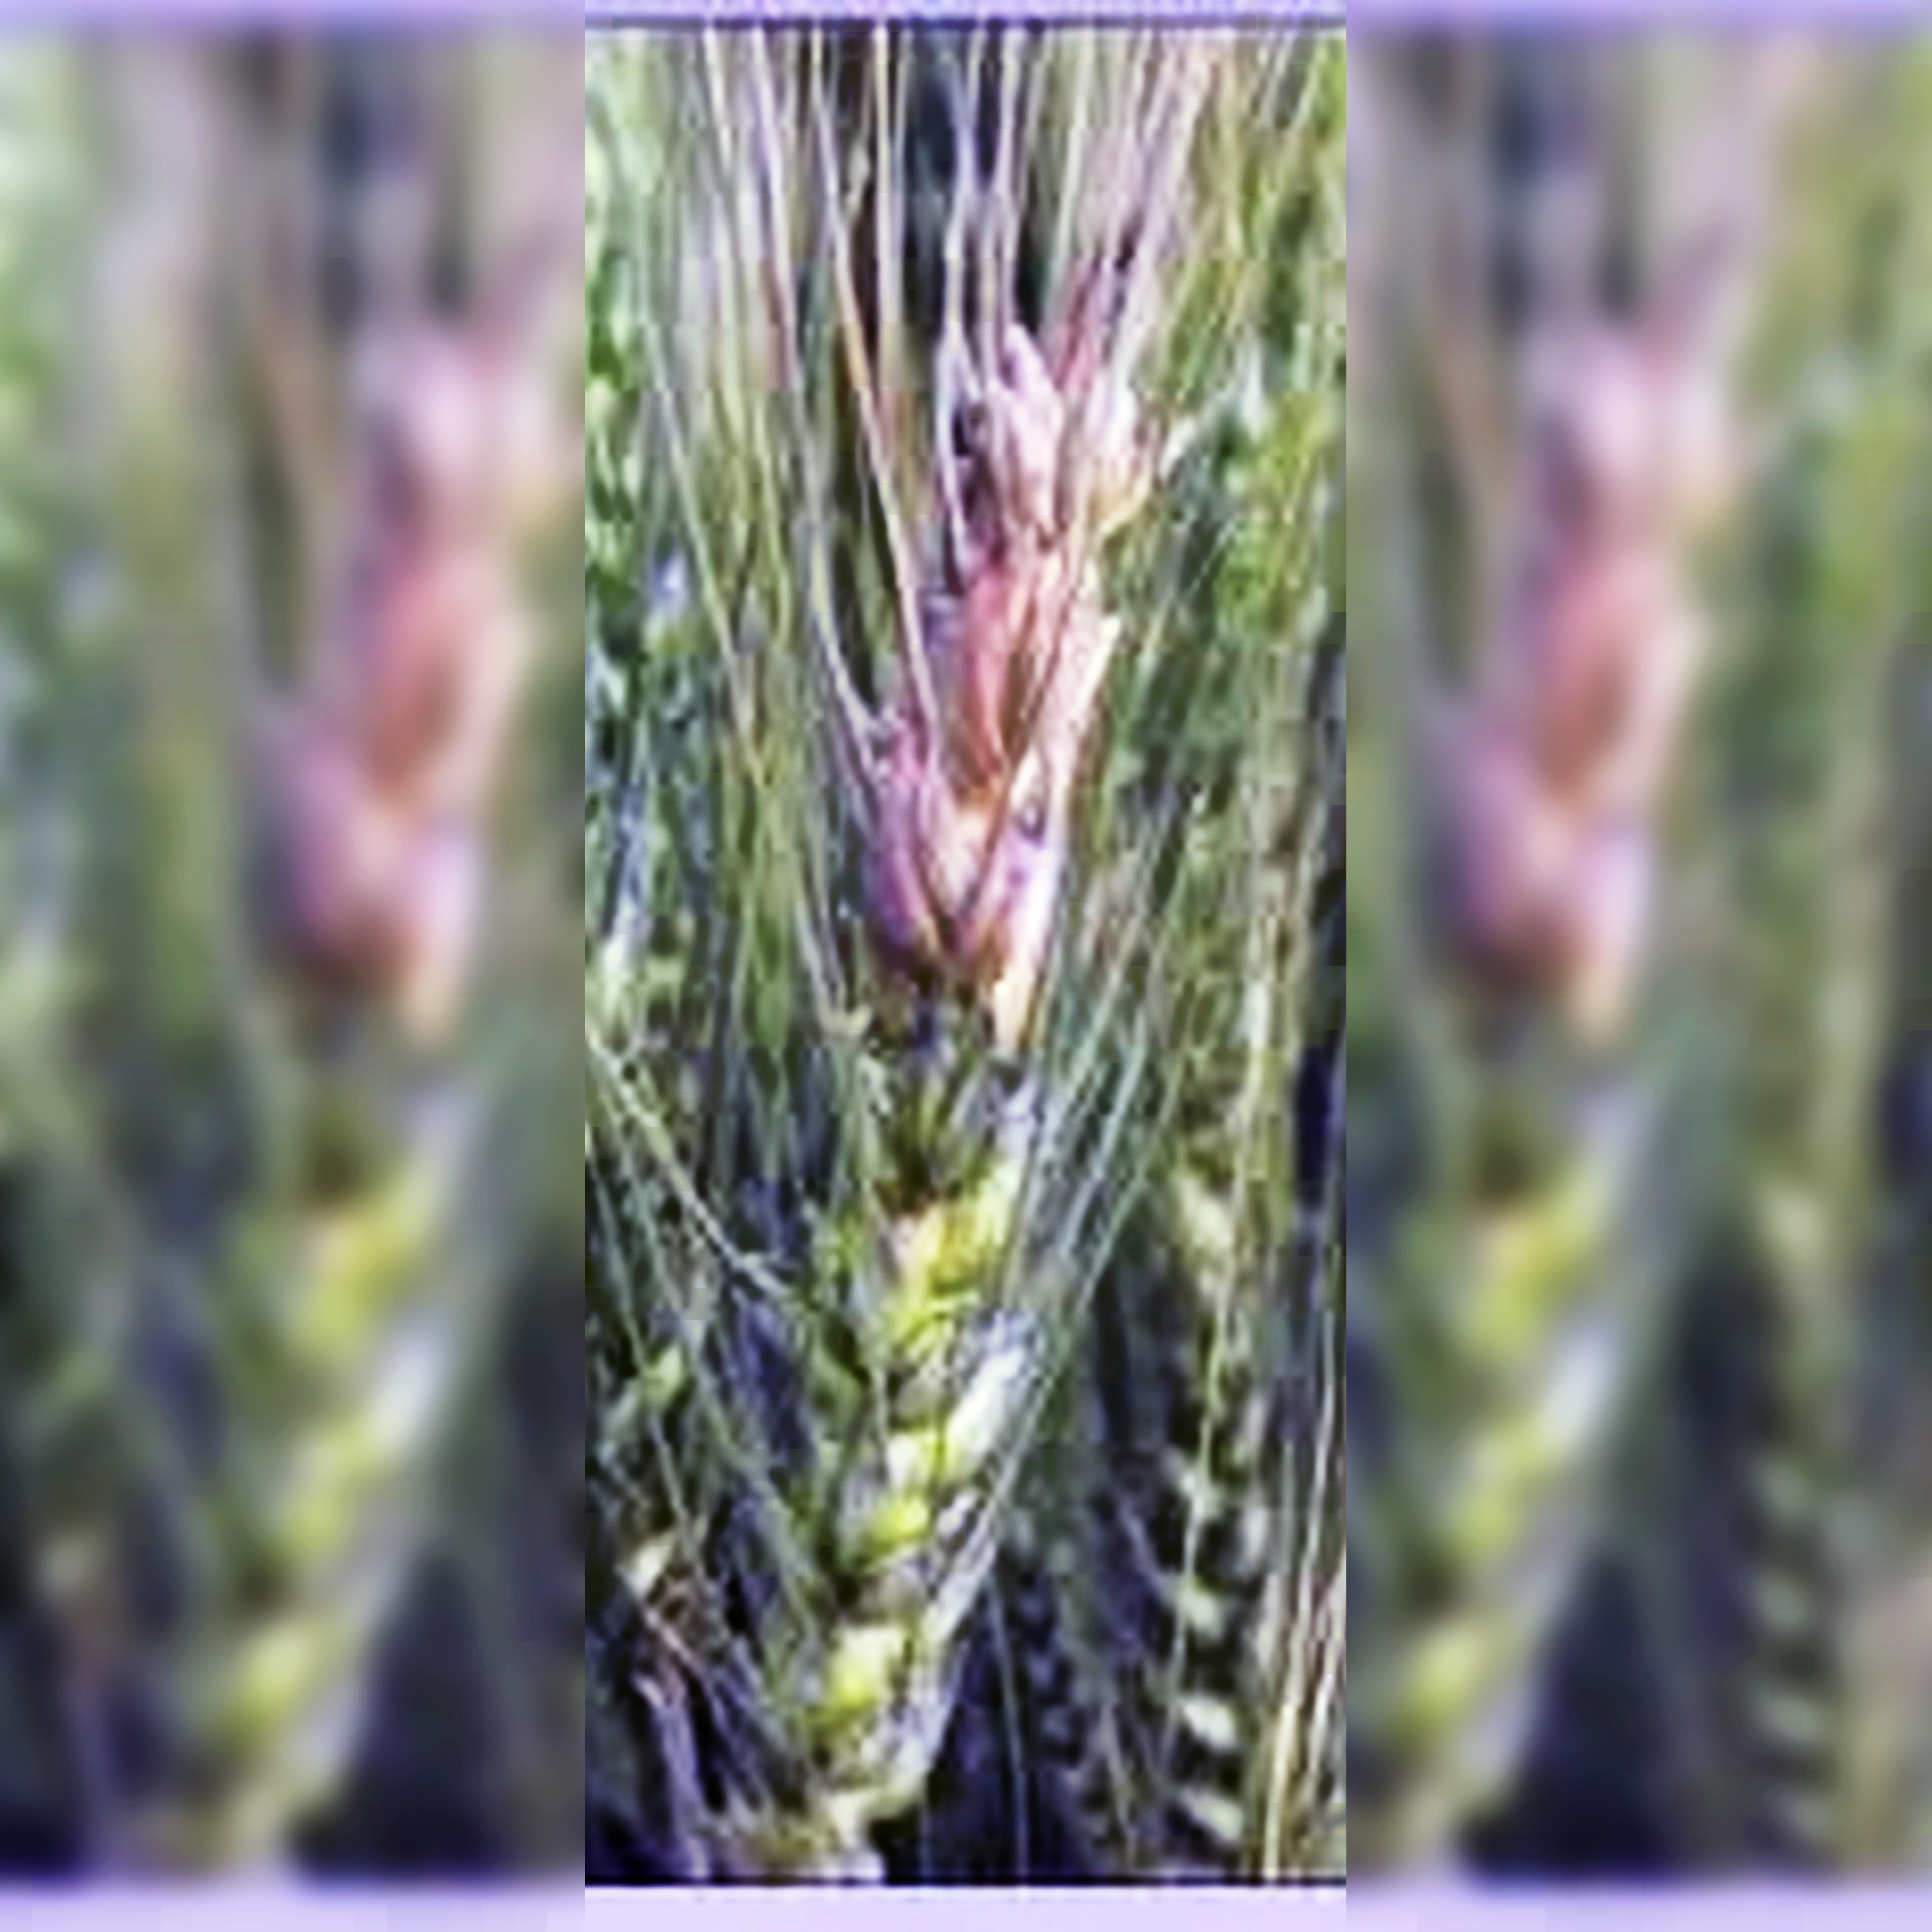Wheat scab: (747, 306, 1207, 1782)
